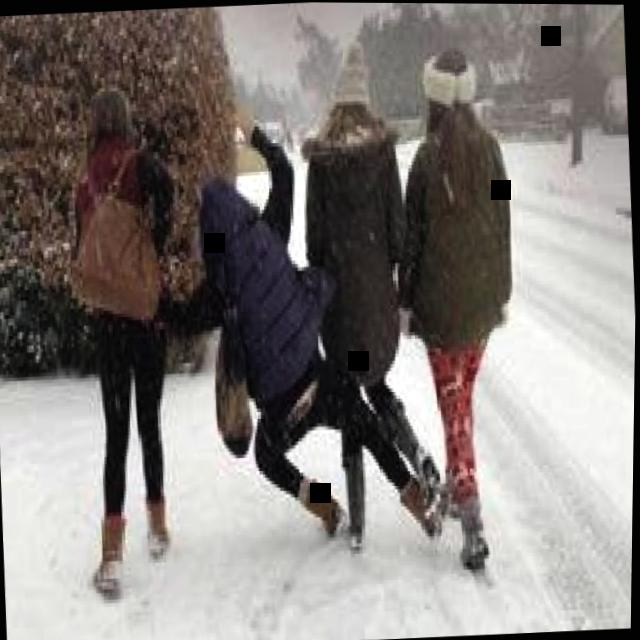Fall-Detected: (163, 107, 421, 549)
